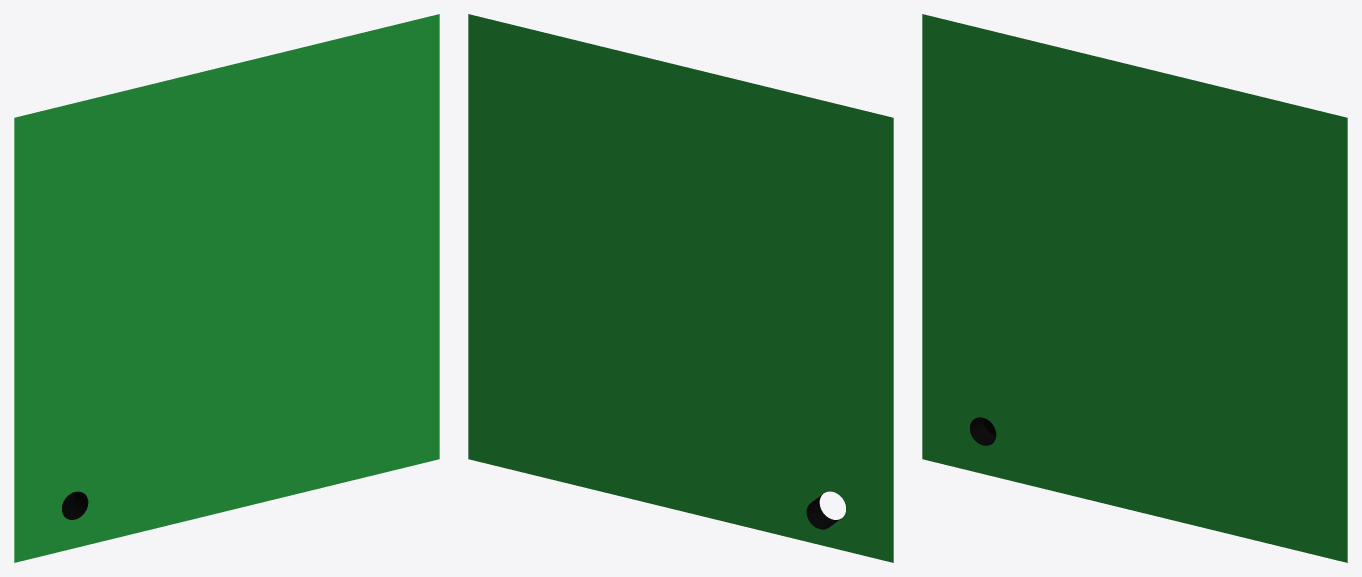
File: MapaGolfCircularV2.fbx
3 views of the same model, side by side, from view 1: azimuth 30°, elevation 25°; view 2: azimuth 150°, elevation 25°; view 3: azimuth 330°, elevation 25° (orthographic).
Parts seen in each view (by area): view 1: Plane; view 2: Plane; view 3: Plane.
Boxes of the visible parts, left/top/right/bottom form: Plane: left=14, top=14, right=439, bottom=562; Plane: left=468, top=14, right=893, bottom=562; Plane: left=922, top=14, right=1347, bottom=562.
Size of the model in its own units: 20 by 1.07 by 20.
